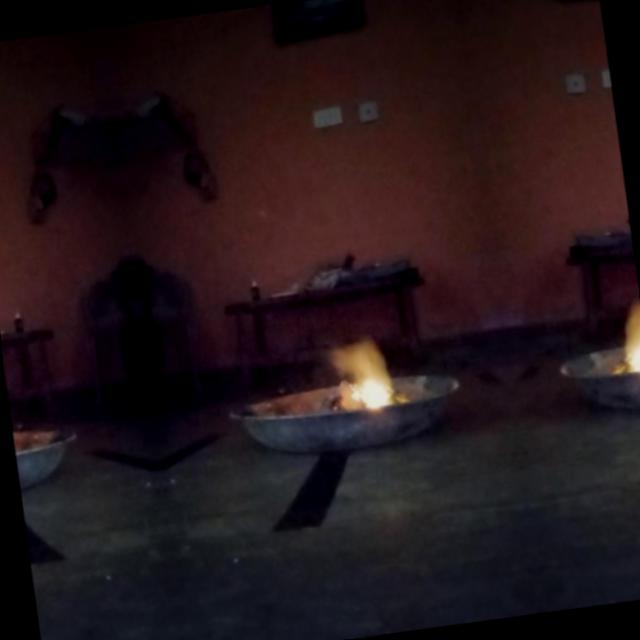fire: (287, 311, 430, 446), (591, 280, 640, 425)
